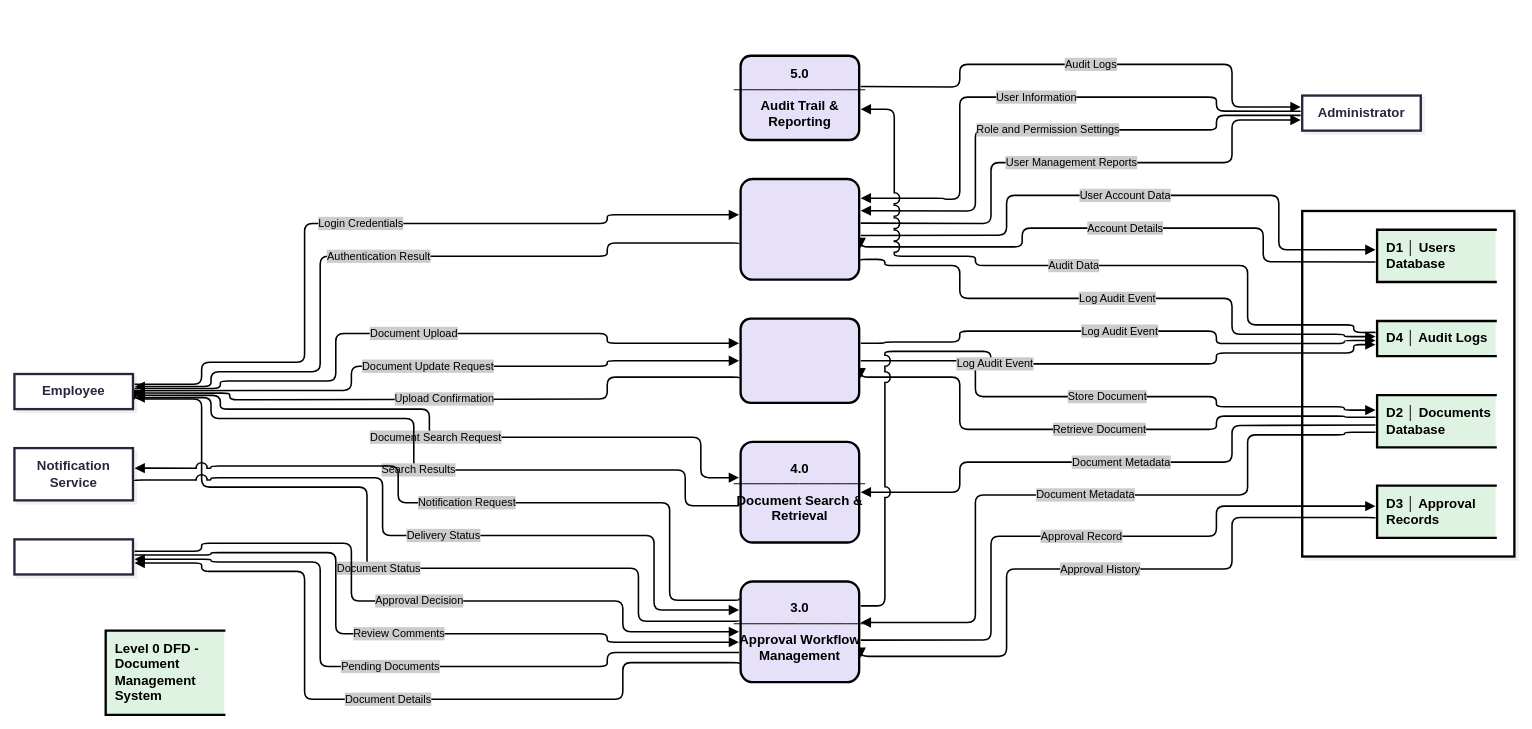
Image size: 1532x729. Some labels were removed from this diagram. The centre of each missing label's shape, as x and y in pixels:
"1.0 ────────────── User Authentication & Management" goes at pixel 799 228.
"2.0 ────────────── Document Management" goes at pixel 799 360.
"Manager" goes at pixel 75 558.
